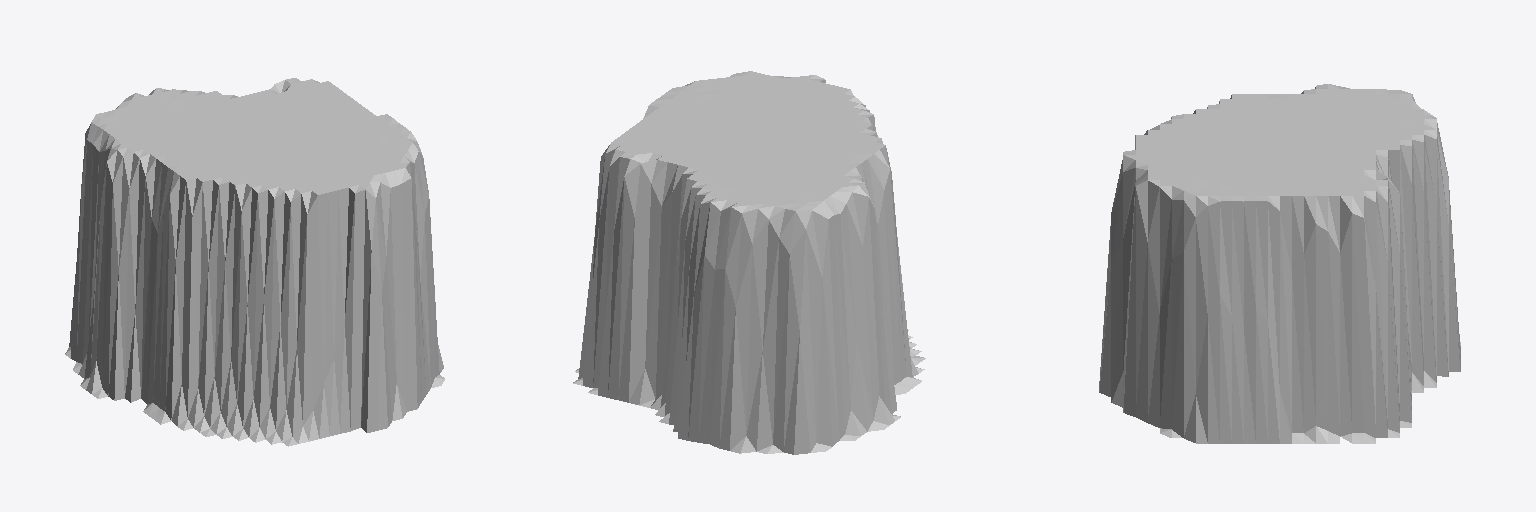
Rendered from Ltya_TD1_Terrain.obj.
3 renders of one model, left to right at view 1: azimuth 30°, elevation 25°; view 2: azimuth 150°, elevation 25°; view 3: azimuth 270°, elevation 25°, orthographic.
Parts seen in each view (by area): view 1: default; view 2: default; view 3: default.
Boxes of the visible parts, <box> form: default: <box>65,78,444,446</box>; default: <box>573,71,925,454</box>; default: <box>1099,84,1460,443</box>.
Bounding box in the file's own units: 15.59 × 11.87 × 16.7.